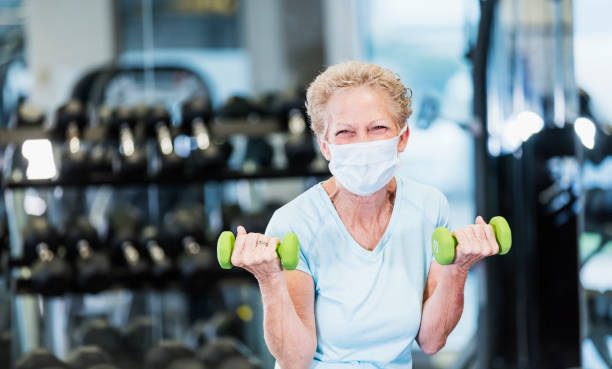with mask: (307, 63, 416, 201)
